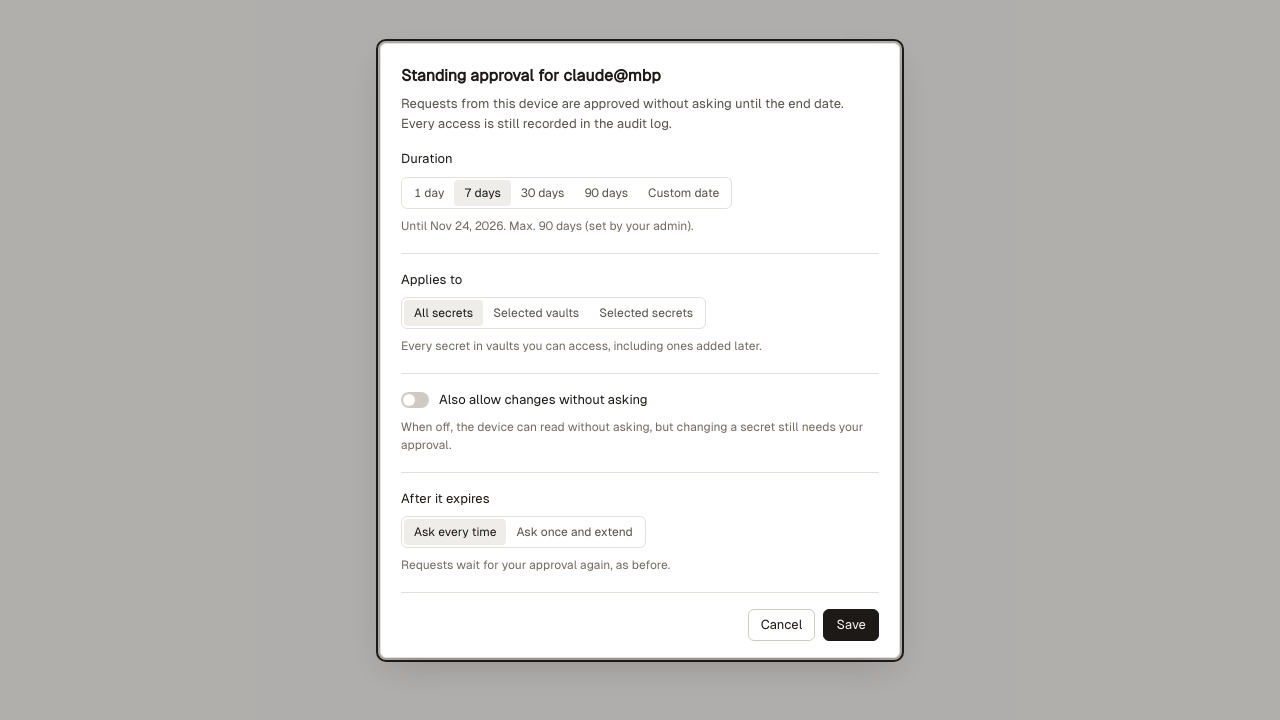
StandingApprovalDialog › three scope options; selected vaults lists the vaults and hides the "add created secrets" switch
Click the button "Selected vaults" at (536, 313), box [483,300,589,326]
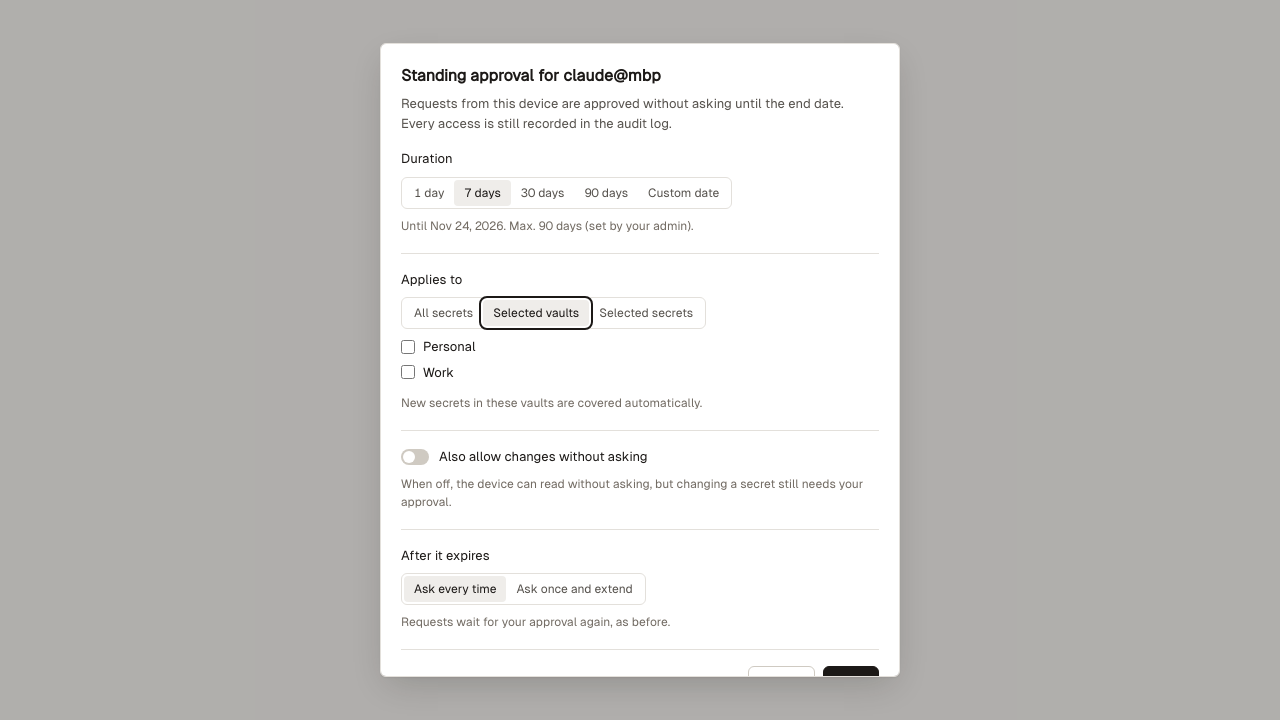
Check: the text "New secrets in these vaults are covered automatically." is shown, box [401,396,702,410]
